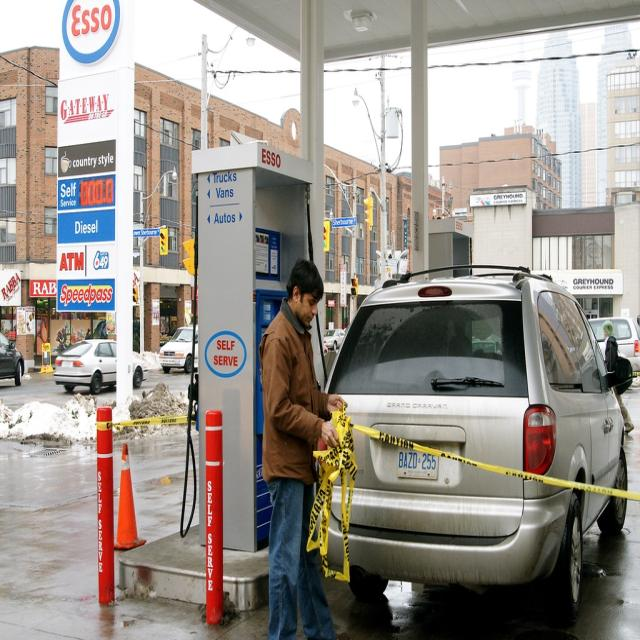esso: (61, 2, 128, 72)
